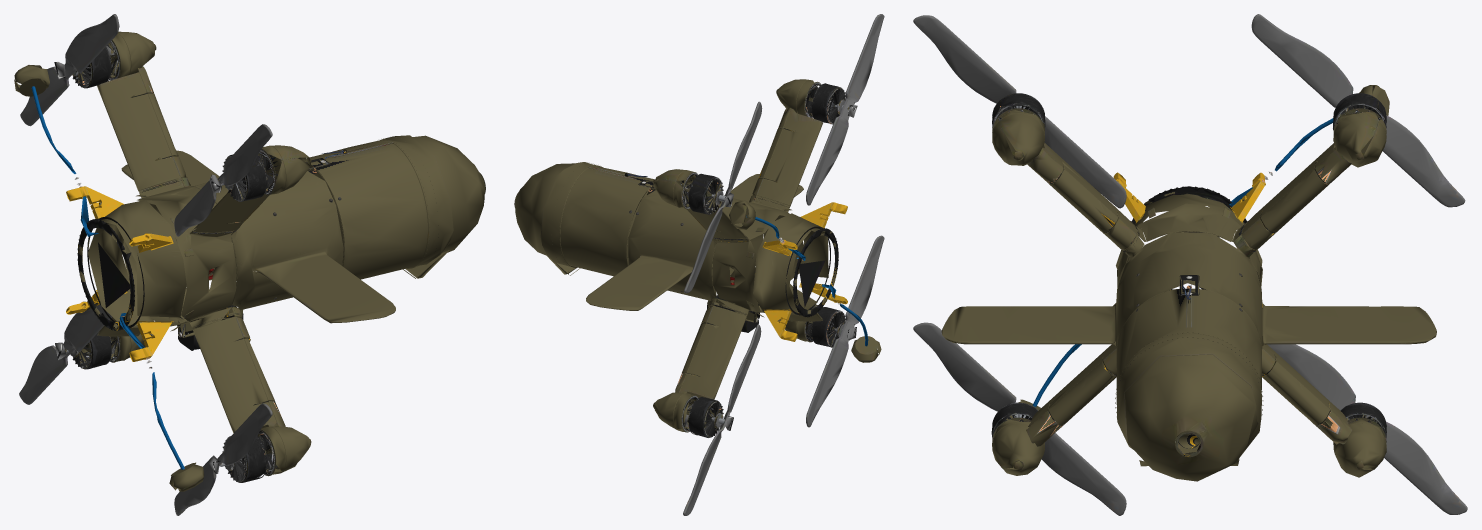
Rendered from sting.glb.
3 renders of one model, left to right at view 1: azimuth 30°, elevation 25°; view 2: azimuth 150°, elevation 25°; view 3: azimuth 270°, elevation 25°, orthographic. The views are drawn at different scales.
Parts seen in each view (by area): view 1: body, prop_2, prop_3, prop_1, prop_4; view 2: body, prop_1, prop_4, prop_3, prop_2; view 3: body, prop_2, prop_4, prop_3, prop_1.
Part boxes in pixels (left/top/right/bottom): body: left=14, top=31, right=485, bottom=491; prop_2: left=20, top=14, right=119, bottom=126; prop_3: left=19, top=304, right=112, bottom=404; prop_1: left=174, top=124, right=272, bottom=236; prop_4: left=174, top=403, right=272, bottom=515; body: left=514, top=79, right=881, bottom=437; prop_1: left=806, top=14, right=884, bottom=205; prop_4: left=806, top=235, right=884, bottom=427; prop_3: left=683, top=324, right=761, bottom=515; prop_2: left=684, top=101, right=762, bottom=293; body: left=941, top=85, right=1436, bottom=481; prop_2: left=1251, top=14, right=1465, bottom=207; prop_4: left=913, top=322, right=1126, bottom=515; prop_3: left=1267, top=344, right=1467, bottom=514; prop_1: left=913, top=15, right=1126, bottom=208.
Size of the model in its own units: 0.45 by 0.5157 by 0.5167.
1 material, 1 textured.
